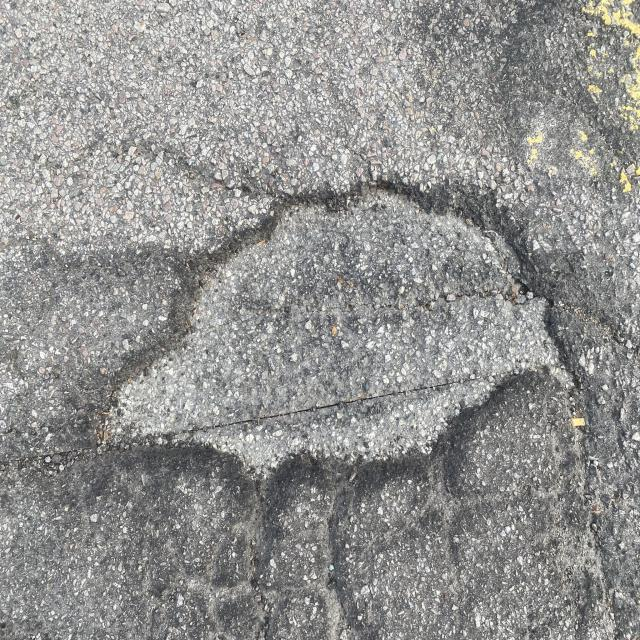Pothole: (43, 136, 584, 516)
